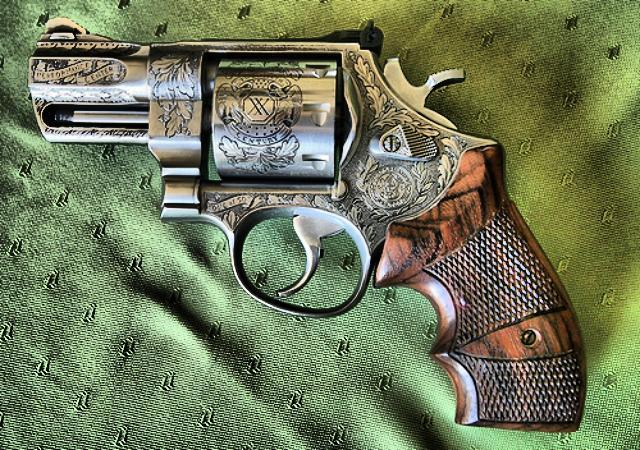pistol: (26, 14, 582, 434)
